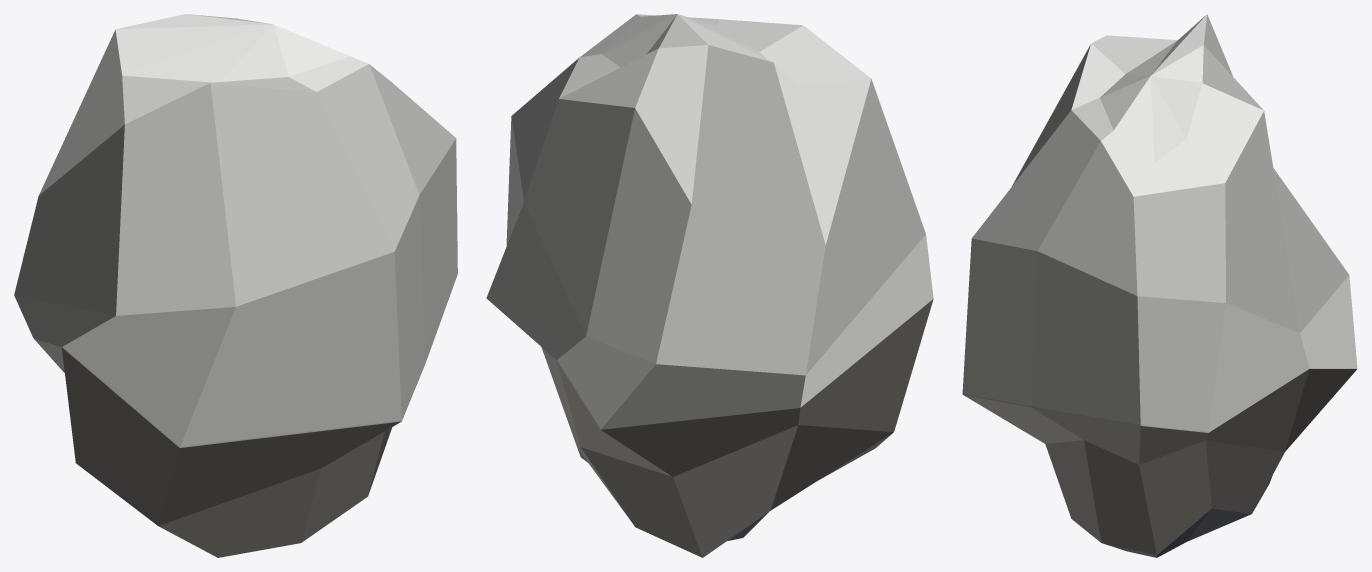
Rendered from piedra3contextura.fbx.
3 views of the same model, side by side, from view 1: azimuth 30°, elevation 25°; view 2: azimuth 150°, elevation 25°; view 3: azimuth 270°, elevation 25° (orthographic). The views are drawn at different scales.
Visible parts, largest first — view 1: pSphere1; view 2: pSphere1; view 3: pSphere1.
Part boxes in pixels (x1,y1,x2,y2): pSphere1: [14, 14, 457, 557]; pSphere1: [486, 14, 933, 557]; pSphere1: [962, 14, 1357, 557].
Size of the model in its own units: 43.33 by 51.17 by 38.46.
1 material, 1 textured.
